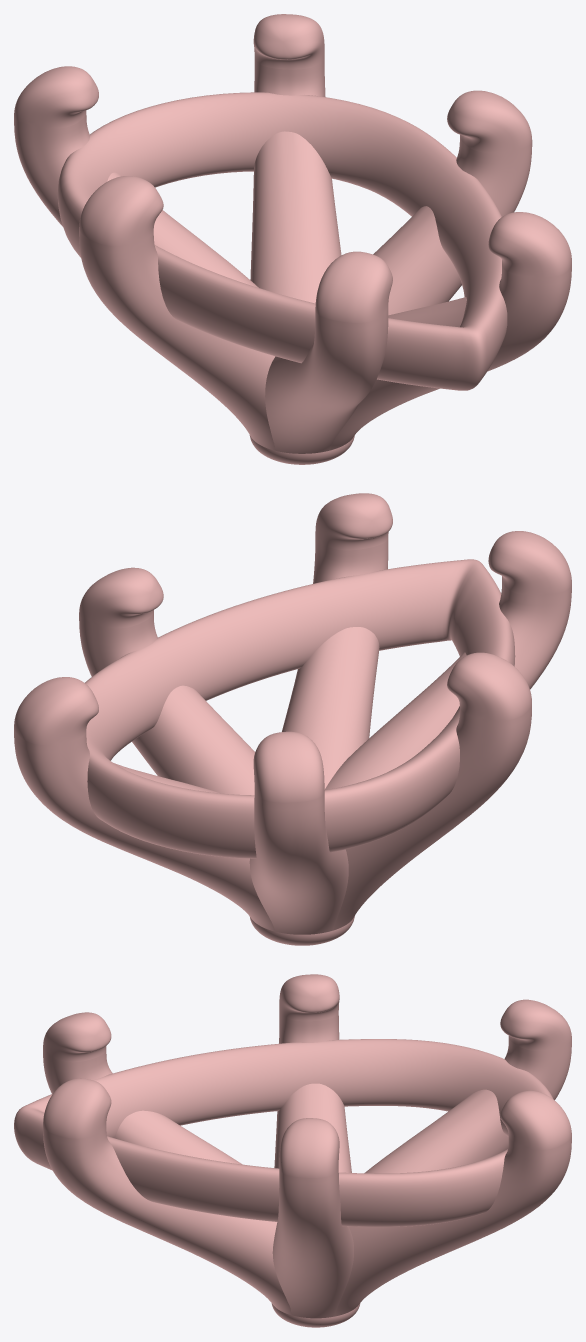
The model's file is PEAR.glb.
3 renders of one model, top to bottom at view 1: azimuth 30°, elevation 25°; view 2: azimuth 150°, elevation 25°; view 3: azimuth 270°, elevation 25°, orthographic. The views are drawn at different scales.
Parts seen in each view (by area): view 1: pear.001; view 2: pear.001; view 3: pear.001.
Boxes of the visible parts, x1,y1,x2,y2 form: pear.001: (14, 14, 571, 464); pear.001: (14, 493, 571, 945); pear.001: (14, 974, 571, 1327).
Bounding box in the file's own units: 6.24 × 4.31 × 8.1.
